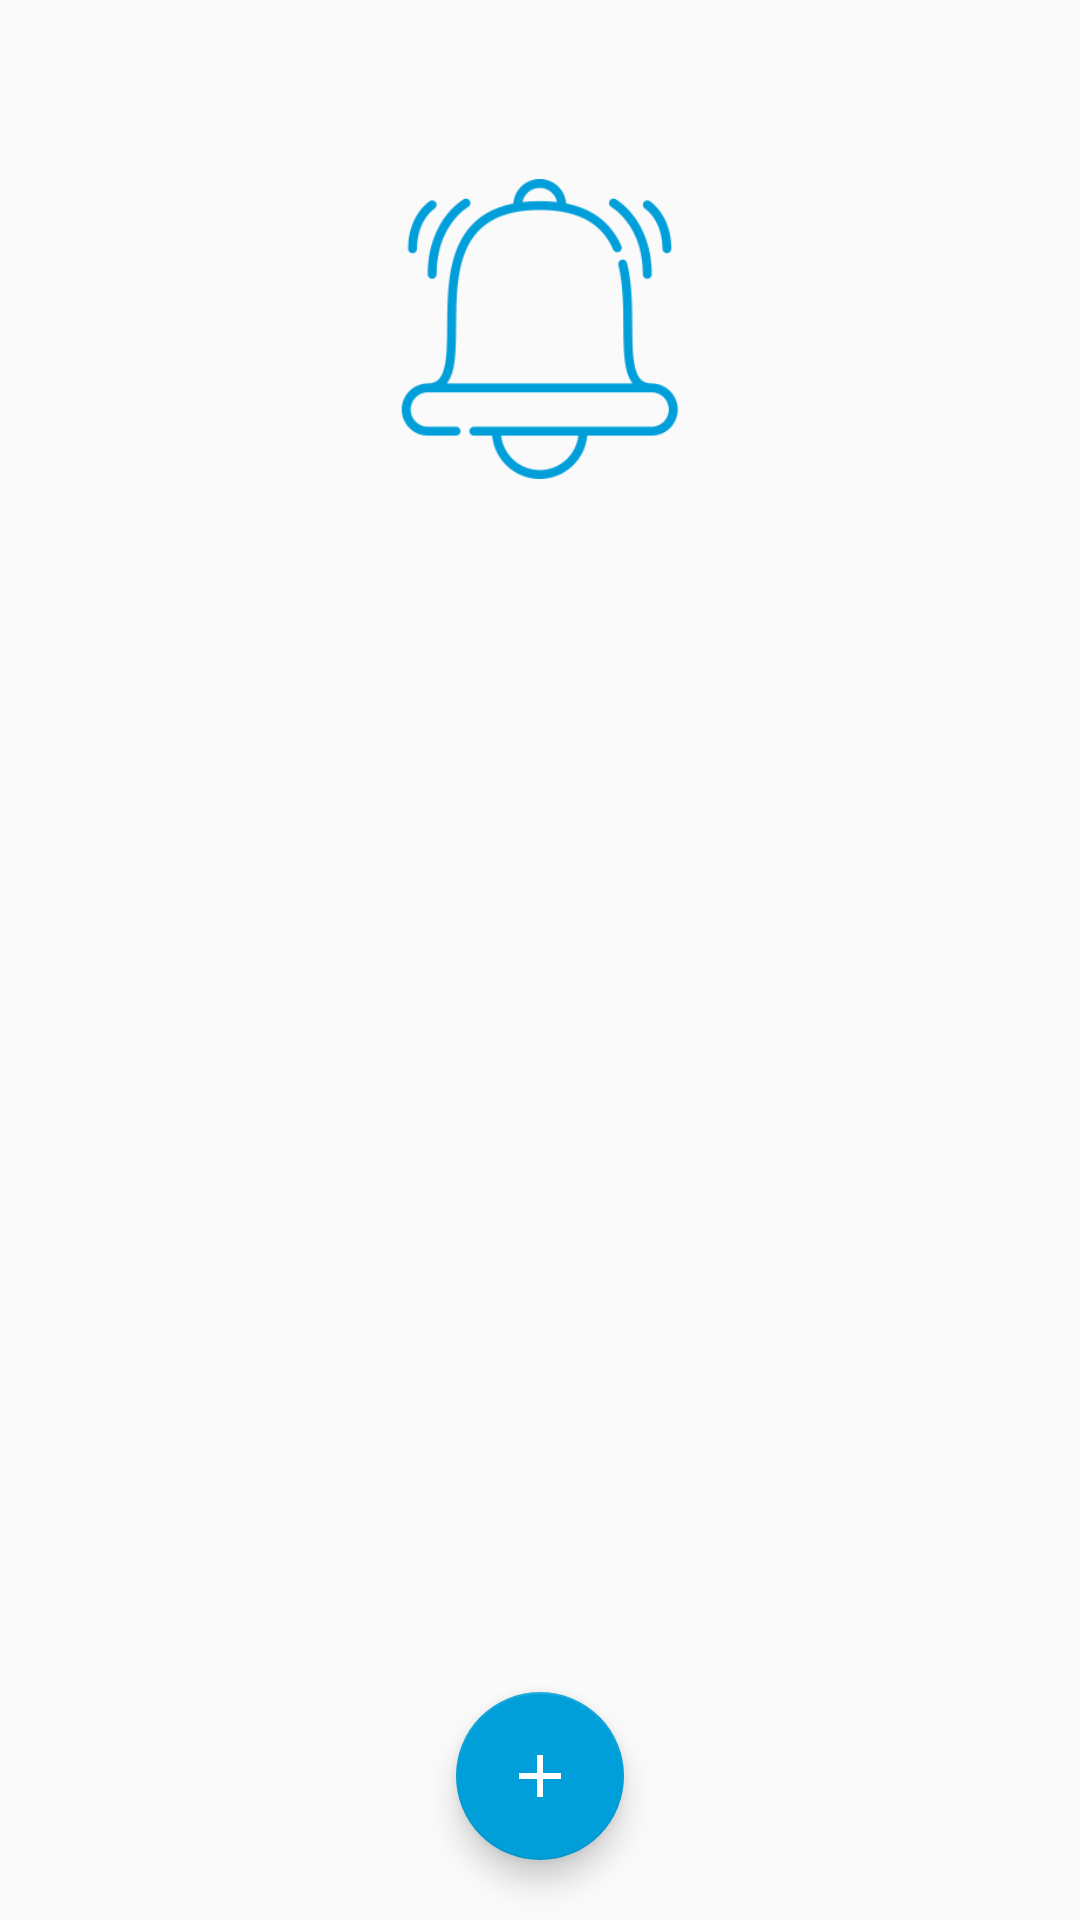

Screen size 1080*1920. Icon name, then its center in pixels as point (x, y):
add: point (540, 1776)
alarm empty: point (540, 329)
